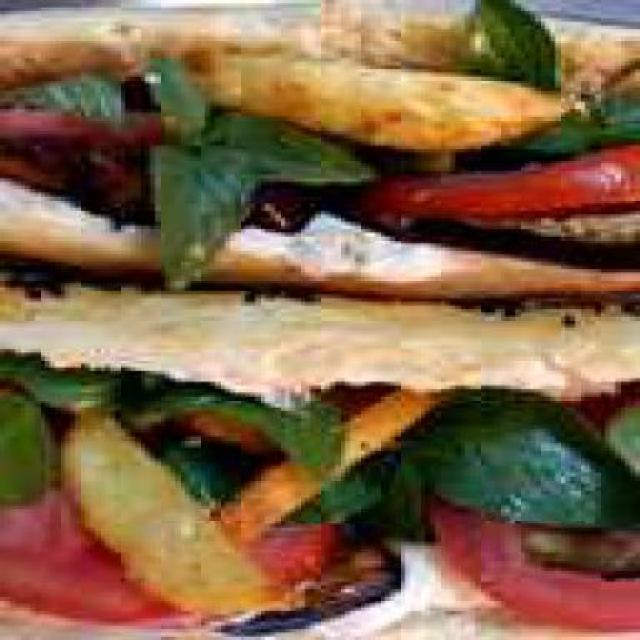eggplant: (226, 542, 406, 610)
french fries: (60, 393, 400, 549)
hummus: (280, 534, 495, 626), (220, 211, 435, 277)
